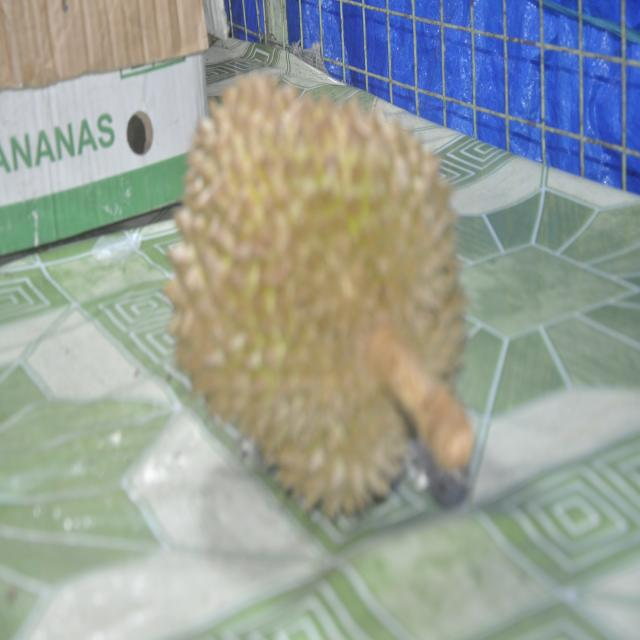mature: (166, 74, 473, 518)
